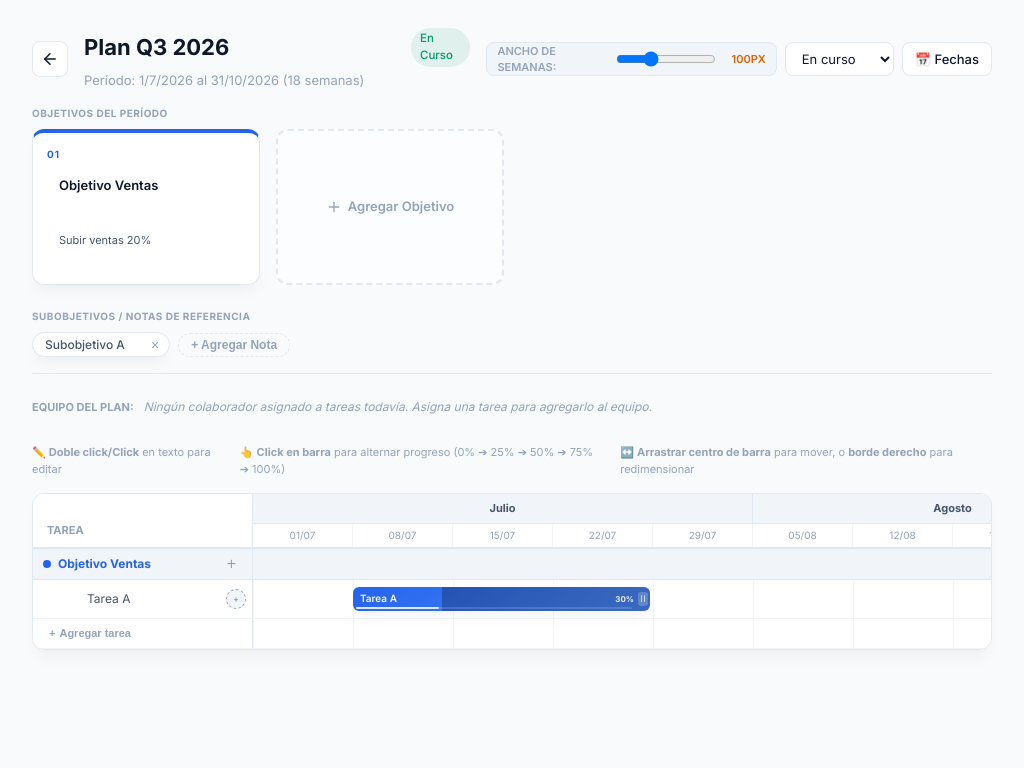
Scenario: Componente PlanDetalle › debe agregar un nuevo objetivo
The image size is (1024, 768).
Expected: the 1st text box showing "Objetivo Ventas" is shown, [47,168,245,218]
Click the text "Agregar Objetivo" at point(390, 207), box [276,129,504,285]
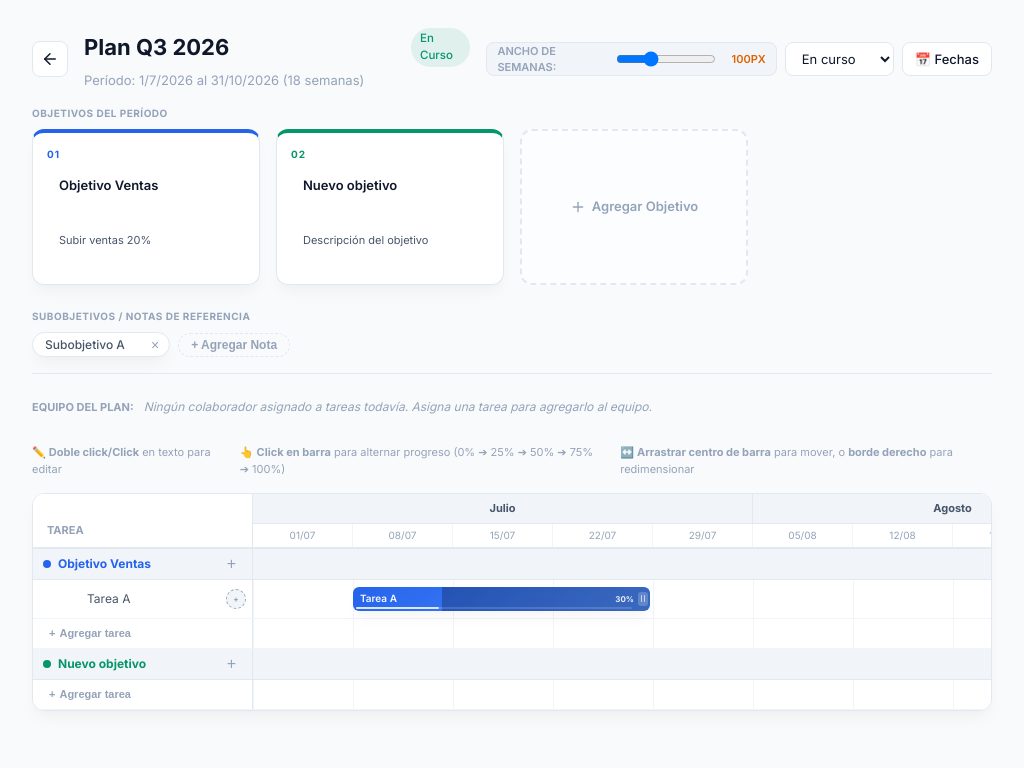
Result: the 2nd text box showing "Nuevo objetivo" is shown at [291,168,489,218]
